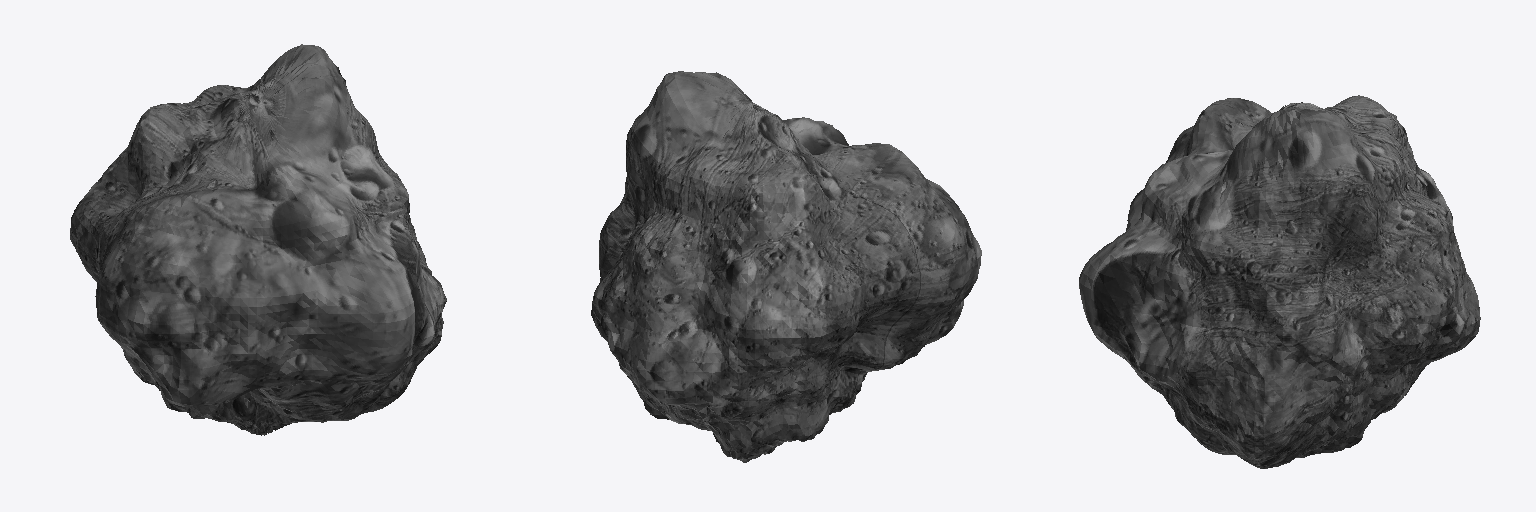
3 renders of one model, left to right at view 1: azimuth 30°, elevation 25°; view 2: azimuth 150°, elevation 25°; view 3: azimuth 270°, elevation 25°, orthographic.
Parts seen in each view (by area): view 1: Sphere_Sphere.002; view 2: Sphere_Sphere.002; view 3: Sphere_Sphere.002.
Boxes of the visible parts, <box> form: Sphere_Sphere.002: <box>70,44,446,435</box>; Sphere_Sphere.002: <box>591,71,981,462</box>; Sphere_Sphere.002: <box>1079,95,1480,468</box>.
Size of the model in its own units: 2.29 by 2.22 by 2.27.
Materials: 1 (1 with a texture image).